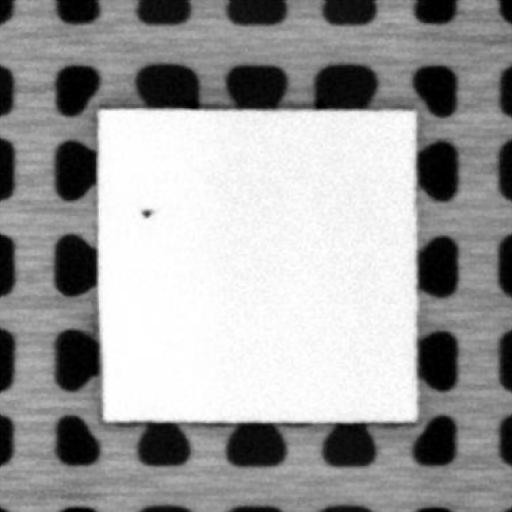DIE_INK: (137, 204, 153, 217)
